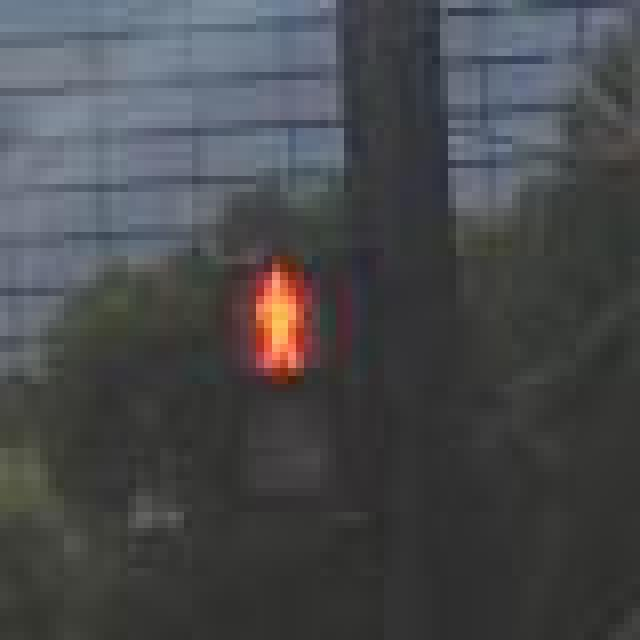redlight: (209, 247, 372, 529)
